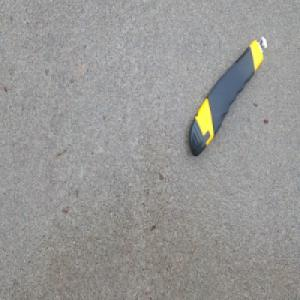Cutter: (186, 36, 266, 159)
